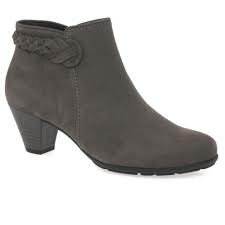Ankle boots: (3, 14, 220, 177)
